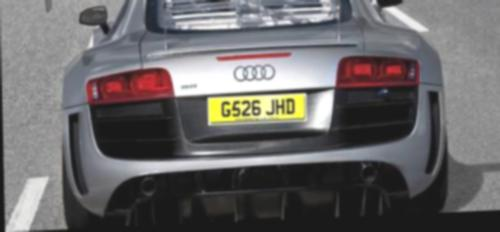License_Plate: (206, 93, 305, 125)
